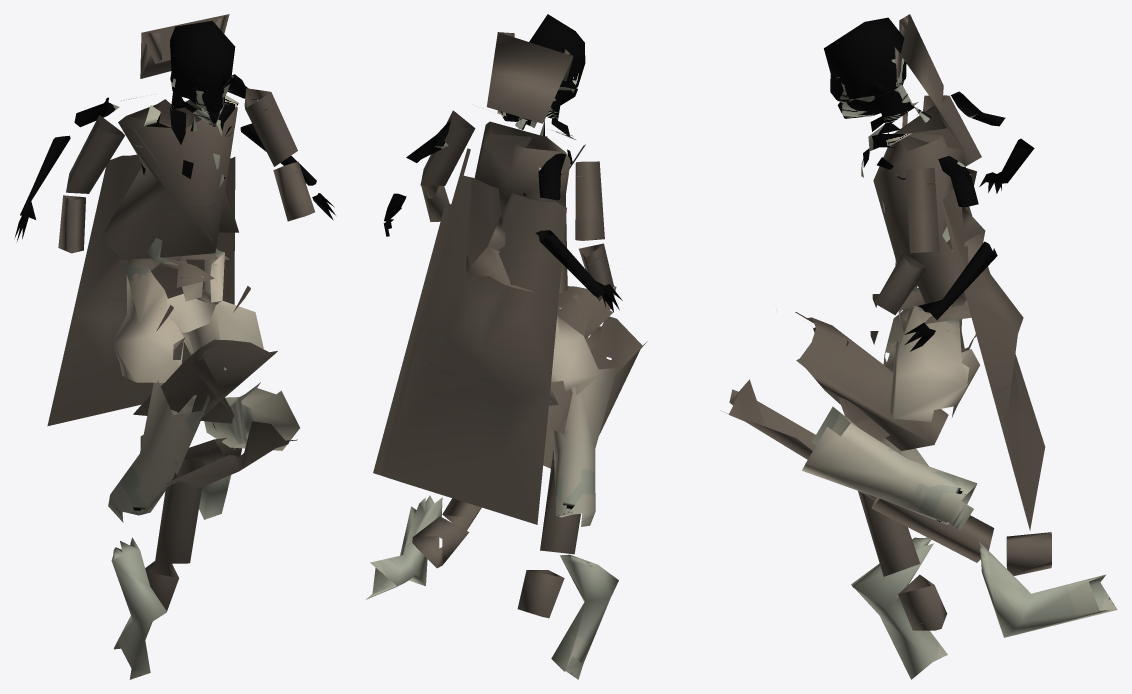
File: hooded_male_far.glb
The picture shows the model from 3 angles, left to right: view 1: azimuth 30°, elevation 25°; view 2: azimuth 150°, elevation 25°; view 3: azimuth 270°, elevation 25°; orthographic projection. The views are drawn at different scales.
Visible parts, largest first — view 1: Body.001; view 2: Body.001; view 3: Body.001.
Boxes of the visible parts, x1,y1,x2,y2 form: Body.001: (14, 14, 335, 679); Body.001: (366, 14, 647, 679); Body.001: (720, 14, 1117, 679).
Bounding box in the file's own units: 0.8061 × 1.83 × 1.02.
2 materials, 2 textured.
